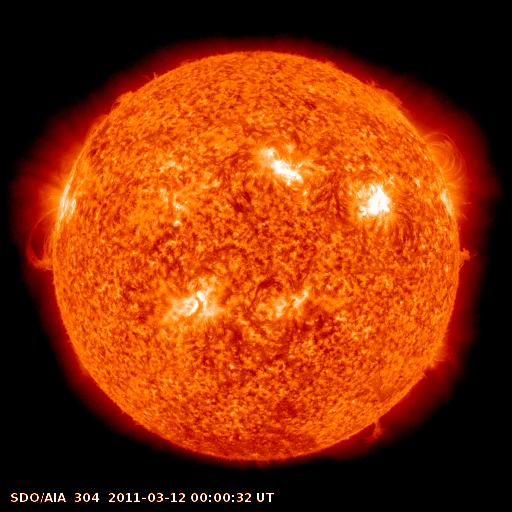prominence: (17, 206, 71, 283), (79, 84, 139, 146), (362, 75, 417, 123), (354, 406, 395, 453), (450, 240, 487, 276)
